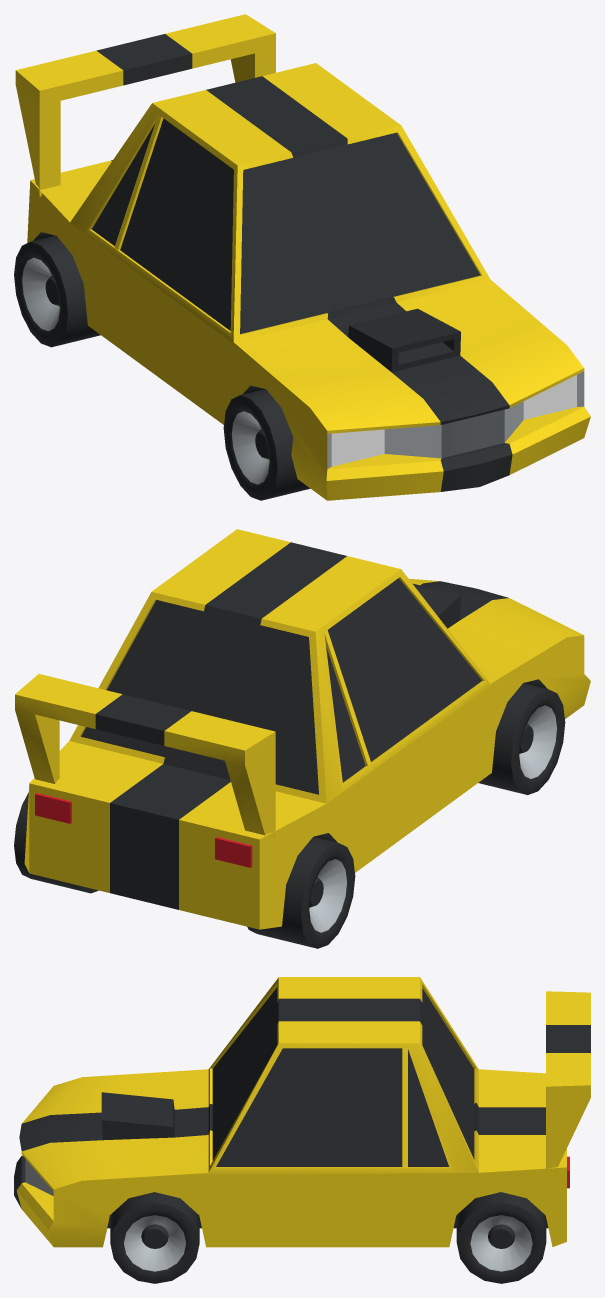
The model's file is Race Royale.fbx_Car8.fbx.
3 views of the same model, one above another, from view 1: azimuth 30°, elevation 25°; view 2: azimuth 150°, elevation 25°; view 3: azimuth 270°, elevation 25° (orthographic). The views are drawn at different scales.
Visible parts, largest first — view 1: Car8, Car8Wheel4, Car8Wheel2; view 2: Car8, Car8Wheel4, Car8Wheel2, Car8Wheel3; view 3: Car8, Car8Wheel3, Car8Wheel1.
Boxes of the visible parts, <box> form: Car8: <box>15,14,590,500</box>; Car8Wheel4: <box>14,235,100,347</box>; Car8Wheel2: <box>223,389,310,500</box>; Car8: <box>15,529,590,929</box>; Car8Wheel4: <box>247,837,355,948</box>; Car8Wheel2: <box>478,683,565,794</box>; Car8Wheel3: <box>14,792,98,893</box>; Car8: <box>14,977,590,1247</box>; Car8Wheel3: <box>456,1192,546,1283</box>; Car8Wheel1: <box>110,1192,199,1283</box>.
Bounding box in the file's own units: 270 × 232 × 562.
